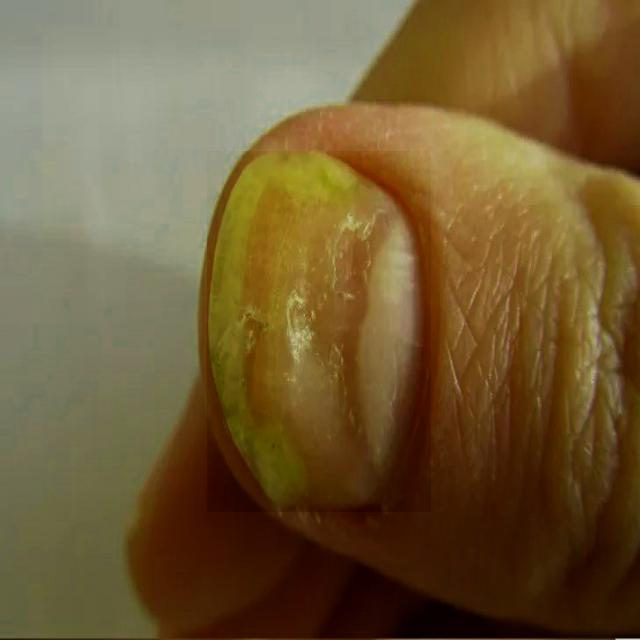diabetes: (208, 152, 431, 512)
